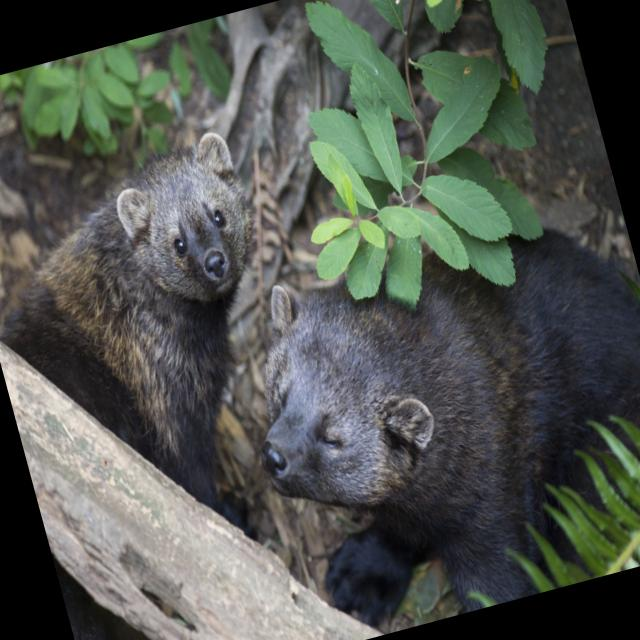bear: (199, 193, 640, 567), (0, 70, 357, 497)
